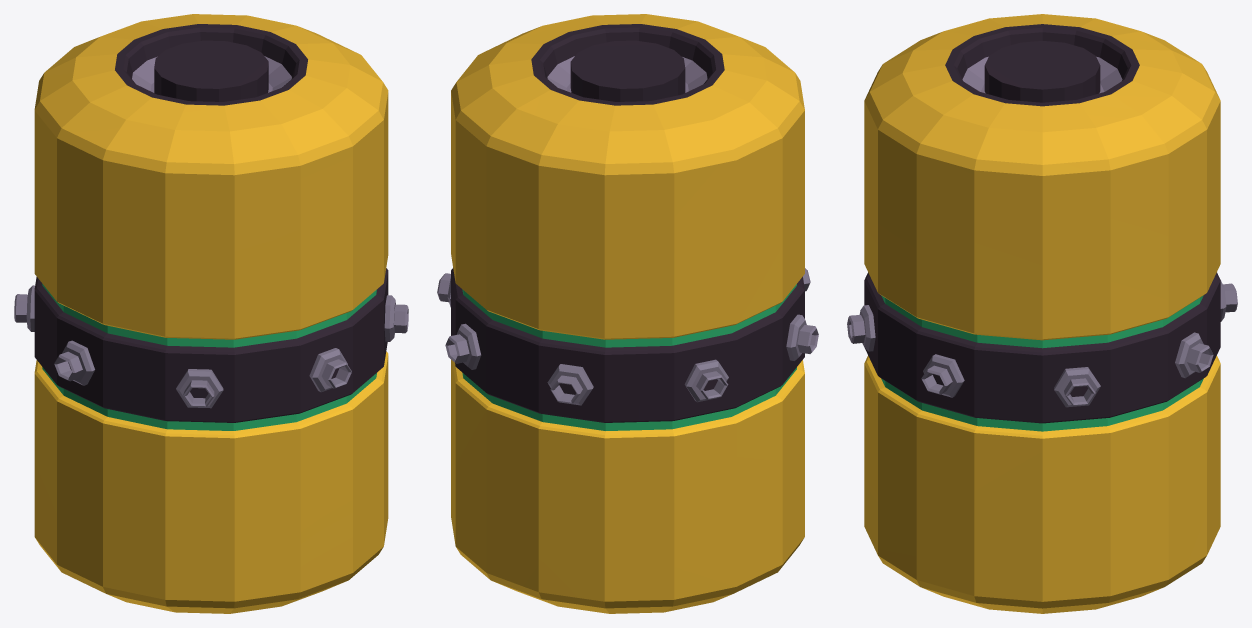
File: Barrel.fbx
The picture shows the model from 3 angles, left to right: view 1: azimuth 30°, elevation 25°; view 2: azimuth 150°, elevation 25°; view 3: azimuth 270°, elevation 25°; orthographic projection.
Parts seen in each view (by area): view 1: Barrel; view 2: Barrel; view 3: Barrel.
Part boxes in pixels (x1,y1,x2,y2): Barrel: [14, 14, 408, 613]; Barrel: [437, 14, 818, 613]; Barrel: [847, 14, 1237, 613].
Bounding box in the file's own units: 265 × 372 × 265.
